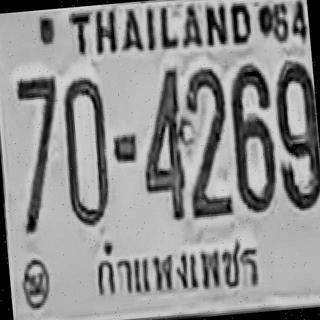N00: (58, 75, 114, 228)
N02: (179, 68, 233, 205), (179, 66, 232, 196), (180, 90, 233, 217)
N04: (134, 64, 189, 216)
N06: (226, 62, 279, 212)
N07: (11, 74, 68, 233), (15, 74, 66, 215), (15, 74, 64, 189), (15, 74, 62, 176)
N09: (271, 58, 320, 210)
P16: (83, 224, 267, 308)
